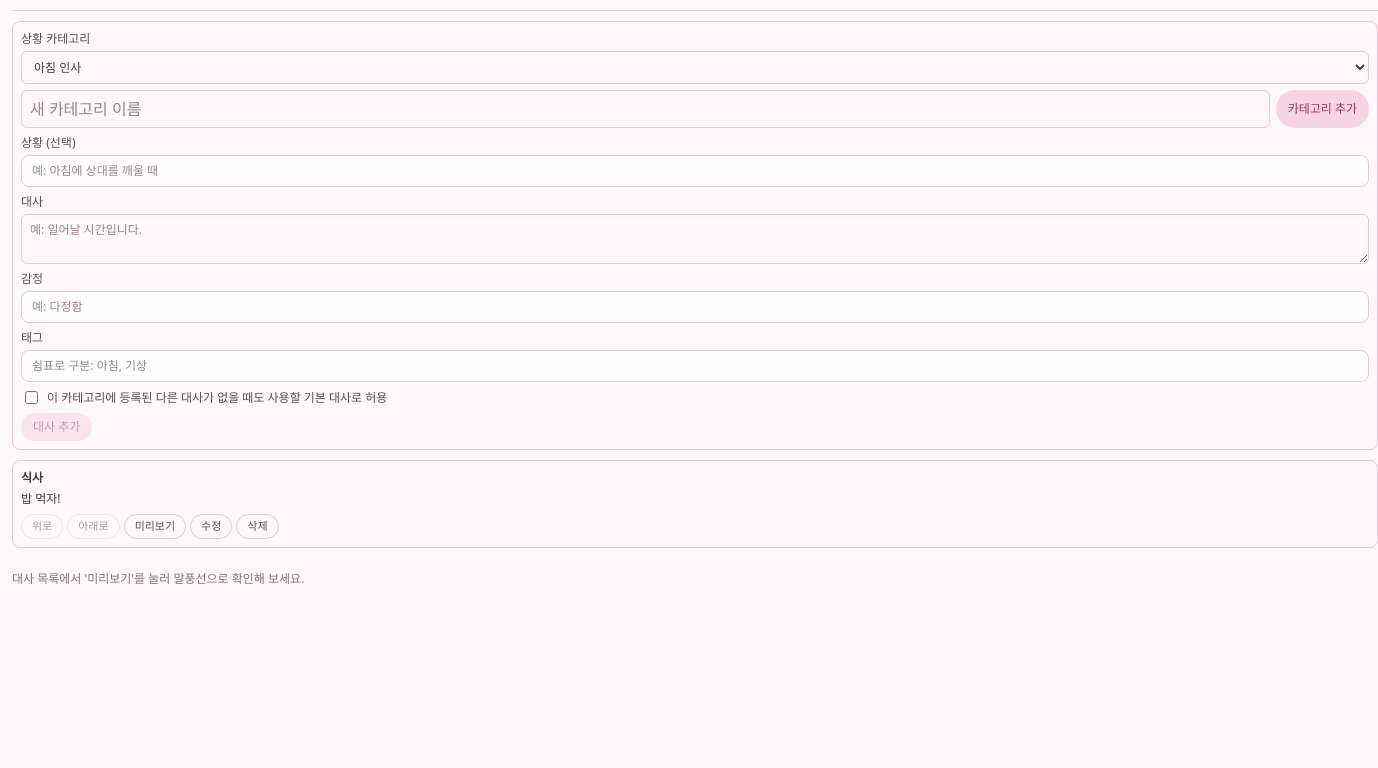
CharacterDialogueLineManager › shows the bubble preview for the clicked line, reusing the shared bubble component
Click the button "미리보기".
click(155, 526)  # box [124,514,186,538]
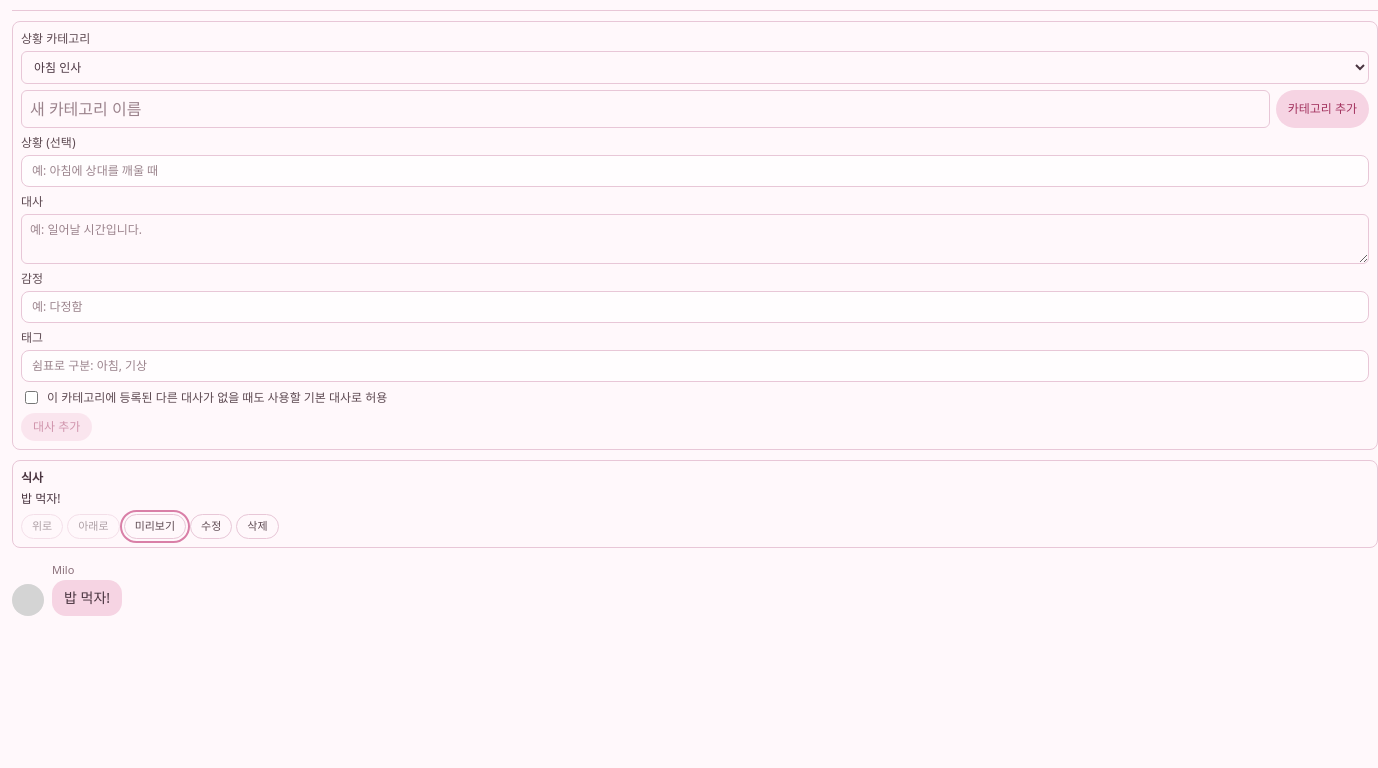
Now the text with class "dialogue-bubble-text" reads "밥 먹자!", box [64,588,110,607]
